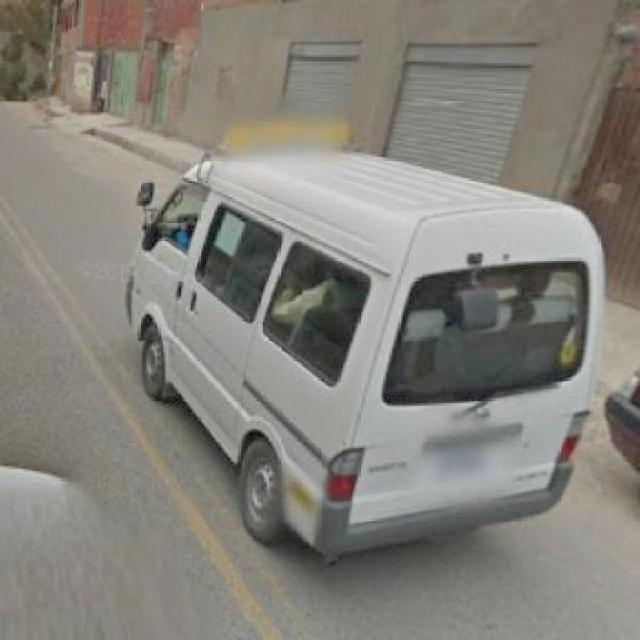car: (111, 147, 613, 575)
